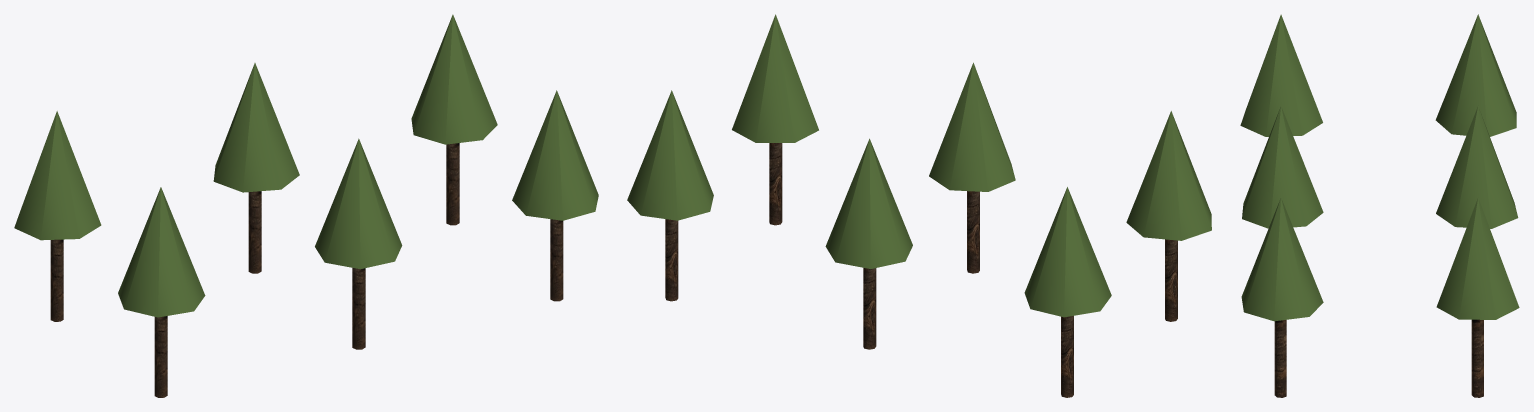
Rendered from saplings.glb.
3 views of the same model, side by side, from view 1: azimuth 30°, elevation 25°; view 2: azimuth 150°, elevation 25°; view 3: azimuth 270°, elevation 25° (orthographic). The views are drawn at different scales.
Visible parts, largest first — view 1: part_1, part_0; view 2: part_1, part_0; view 3: part_1, part_0.
Boxes of the visible parts, x1,y1,x2,y2 form: part_1: [14, 14, 598, 317]; part_0: [50, 143, 563, 397]; part_1: [627, 14, 1211, 317]; part_0: [665, 143, 1177, 397]; part_1: [1240, 14, 1519, 321]; part_0: [1274, 319, 1483, 397].
Size of the model in its own units: 0.9724 by 0.41 by 0.5237.
2 materials, 1 textured.
